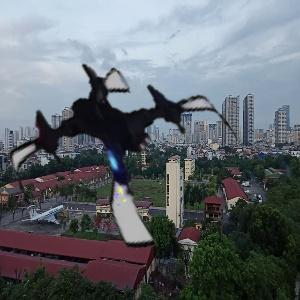drone: (11, 42, 239, 270)
